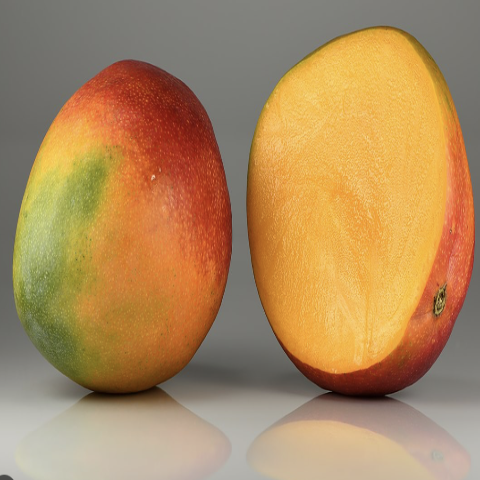mango: (243, 7, 480, 436), (7, 54, 237, 430)
